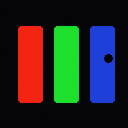0 point: (104, 54, 112, 62)
